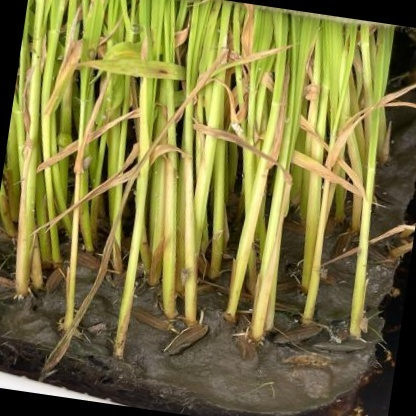Brown_hopper: (74, 150, 95, 177), (173, 264, 194, 290), (311, 263, 331, 285), (355, 312, 369, 336)
